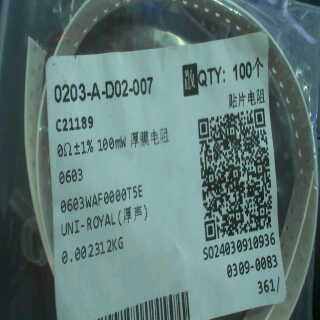0R: (55, 134, 128, 185)
